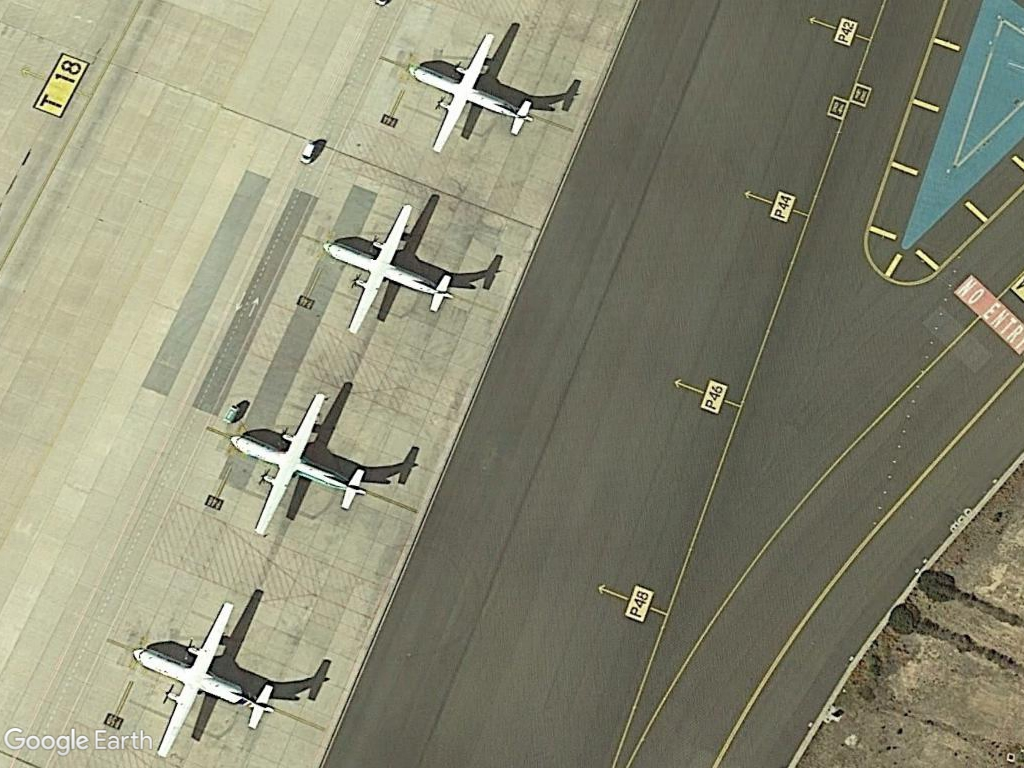propeller: (132, 600, 281, 761), (225, 386, 377, 543), (324, 196, 459, 338), (405, 28, 542, 158)
